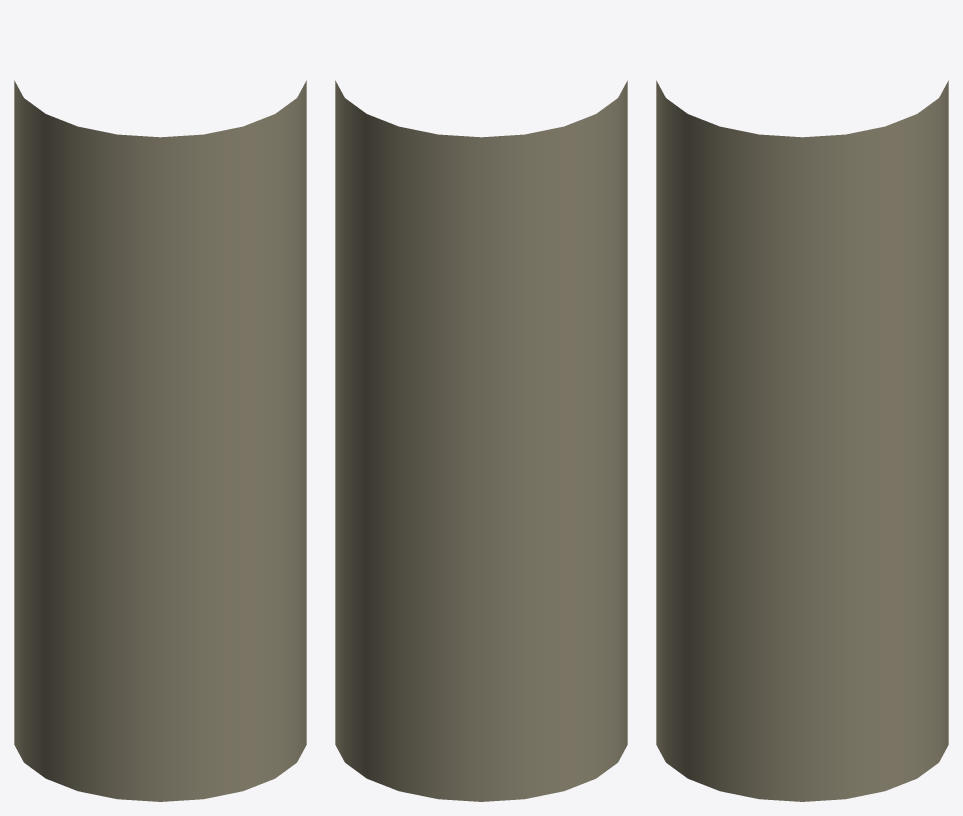
File: SM_ventilation_props_21.glb
The picture shows the model from 3 angles, left to right: view 1: azimuth 30°, elevation 25°; view 2: azimuth 150°, elevation 25°; view 3: azimuth 270°, elevation 25°; orthographic projection.
Parts seen in each view (by area): view 1: SM_ventilation_props_21; view 2: SM_ventilation_props_21; view 3: SM_ventilation_props_21.
Boxes of the visible parts, x1,y1,x2,y2 form: SM_ventilation_props_21: (14,80,306,801); SM_ventilation_props_21: (335,80,627,801); SM_ventilation_props_21: (656,80,948,801).
Bounding box in the file's own units: 0.7955 × 2 × 0.7978.
